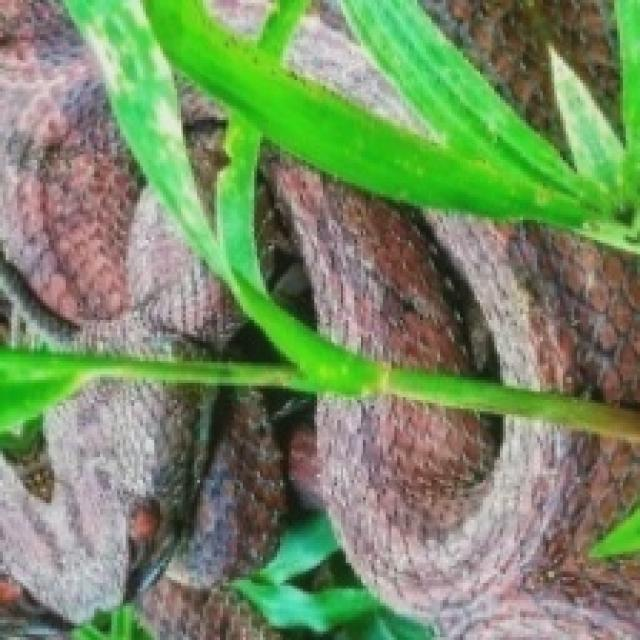philippine pitviper: (266, 157, 637, 403), (0, 0, 234, 351), (317, 397, 637, 637), (0, 383, 283, 637), (289, 11, 409, 120)
